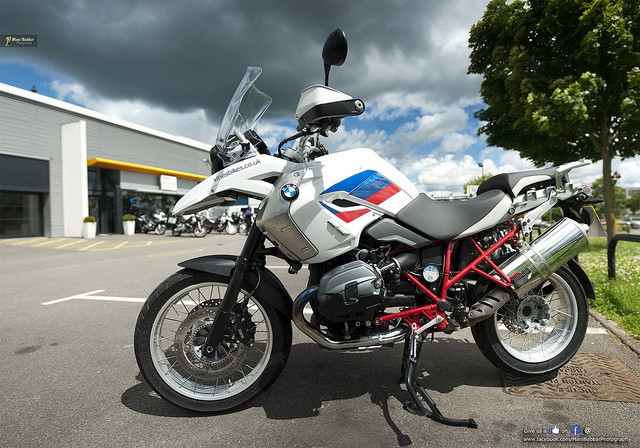non-vehicle: (134, 28, 607, 429), (171, 211, 206, 237), (137, 208, 167, 234), (204, 212, 237, 234), (231, 212, 246, 233)
